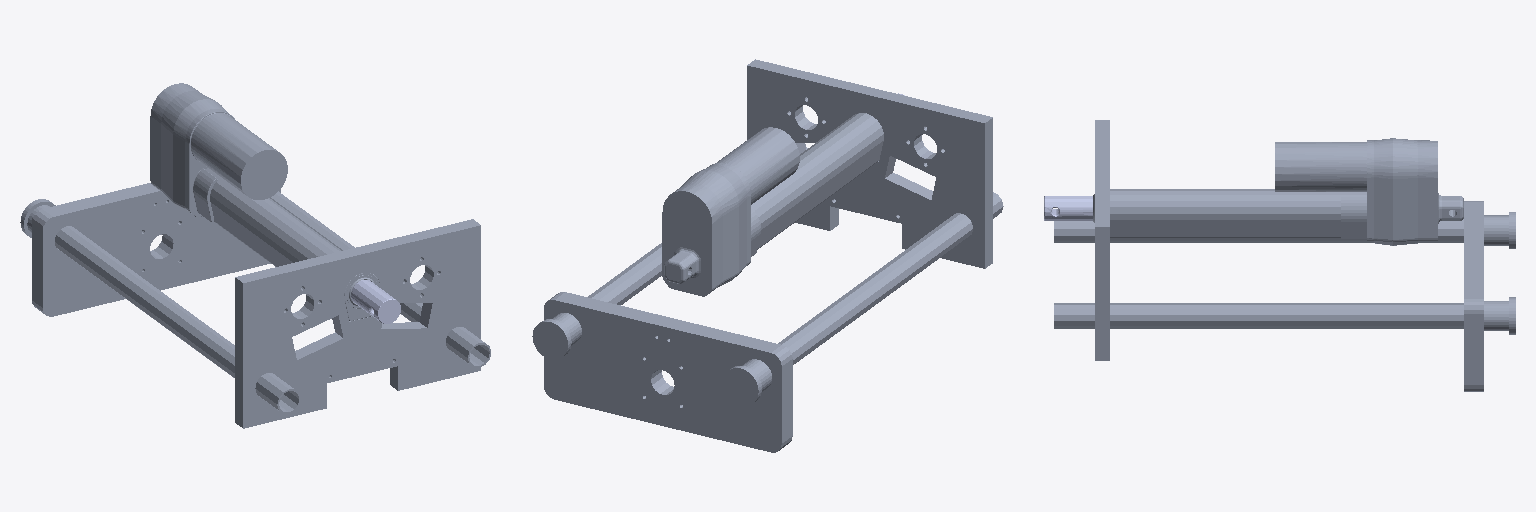
URDF robot description (actuator):
<?xml version="1.0" encoding="utf-8"?>
<!-- This URDF was automatically created by SolidWorks to URDF Exporter! Originally created by [author] ([email redacted]) 
     Commit Version: 1.5.1-0-g916b5db  Build Version: 1.5.7152.31018
     For more information, please see http://wiki.ros.org/sw_urdf_exporter -->
<robot
  name="actuator">
  <static>1 0 0</static>
  <link
    name="base_link">
    <inertial>
      <origin
        xyz="0.102698693078248 0.185507014938219 0.237856750752446"
        rpy="0 0 0" />
      <mass
        value="3" />
      <inertia
        ixx="5"
        ixy="2.10539538122137E-10"
        ixz="-3.27608375773942E-10"
        iyy="5"
        iyz="-0.00024038463225421"
        izz="5" />
    </inertial>
    <visual>
      <origin
        xyz="0 0 0"
        rpy="0 0 0" />
      <geometry>
        <mesh
          filename="package://actuator/meshes/base_link.STL" />
      </geometry>
      <material
        name="">
        <color
          rgba="0.666666666666667 0.698039215686274 0.768627450980392 1" />
      </material>
    </visual>
    <collision>
      <origin
        xyz="0 0 0"
        rpy="0 0 0" />
      <geometry>
        <mesh
          filename="package://actuator/meshes/base_link.STL" />
      </geometry>
    </collision>
  </link>

  <link
    name="actuator_rod">
    <inertial>
      <origin
        xyz="-6.12794875953782E-09 0.0860228529586428 -3.0171669812562E-07"
        rpy="0 0 0" />
      <mass
        value="0.141742027033077" />
      <inertia
        ixx="0.000339567153215789"
        ixy="3.01174317665818E-11"
        ixz="2.43429637951659E-11"
        iyy="7.06680060554459E-06"
        iyz="1.19300588695323E-10"
        izz="0.000339620238575842" />
    </inertial>
    <visual>
      <origin
        xyz="0 0 0"
        rpy="0 0 0" />
      <geometry>
        <mesh
          filename="package://actuator/meshes/actuator rod.STL" />
      </geometry>
      <material
        name="">
        <color
          rgba="0.796078431372549 0.823529411764706 0.937254901960784 1" />
      </material>
    </visual>
    <collision>
      <origin
        xyz="0 0 0"
        rpy="0 0 0" />
      <geometry>
        <mesh
          filename="package://actuator/meshes/actuator rod.STL" />
      </geometry>
    </collision>
  </link>

  <joint
    name="actuator_joint"
    type="prismatic">
    <origin
      xyz="0.1027 -0.47008 0.19302"
      rpy="-3.1416 -1.4241 3.1416" />
    <parent
      link="base_link" />
    <child
      link="actuator_rod" />
    <axis
      xyz="0 0 1" />
    <limit
      lower="-1"
      upper="1"
      effort="1000"
      velocity="0.5" />
  </joint>

  <transmission name="rod_trans" type="SimpleTransmission">
    <type>transmission_interface/SimpleTransmission</type>
    <actuator name="Rod_Motor">
      <mechanicalReduction>1</mechanicalReduction>
    </actuator>
    <joint name="actuator_joint">
      <hardwareInterface>EffortJointInterface</hardwareInterface>
    </joint>
  </transmission>

  <gazebo>
    <plugin name="gazebo_ros_control" filename="libgazebo_ros_control.so">
    </plugin>
  </gazebo>

</robot>

--- Facts derived from the render (not from the file) ---
The picture shows the robot from 3 angles, left to right: view 1: azimuth 30°, elevation 25°; view 2: azimuth 150°, elevation 25°; view 3: azimuth 270°, elevation 25°; orthographic projection.
Robot: actuator — 2 links, 1 joints (1 prismatic); root link base_link; default pose: every joint at zero.
Links seen in each view (by area): view 1: base_link, actuator_rod; view 2: base_link; view 3: base_link, actuator_rod.
Link boxes in pixels (x1,y1,x2,y2): base_link: (20, 83, 490, 428); actuator_rod: (351, 280, 400, 323); base_link: (532, 59, 1003, 452); base_link: (1054, 120, 1515, 391); actuator_rod: (1044, 196, 1092, 220).
Size in the robot's own frame: 0.2 by 0.3726 by 0.1755 metres.
2 mesh visuals loaded from 2 distinct referenced files (2 binary STL).